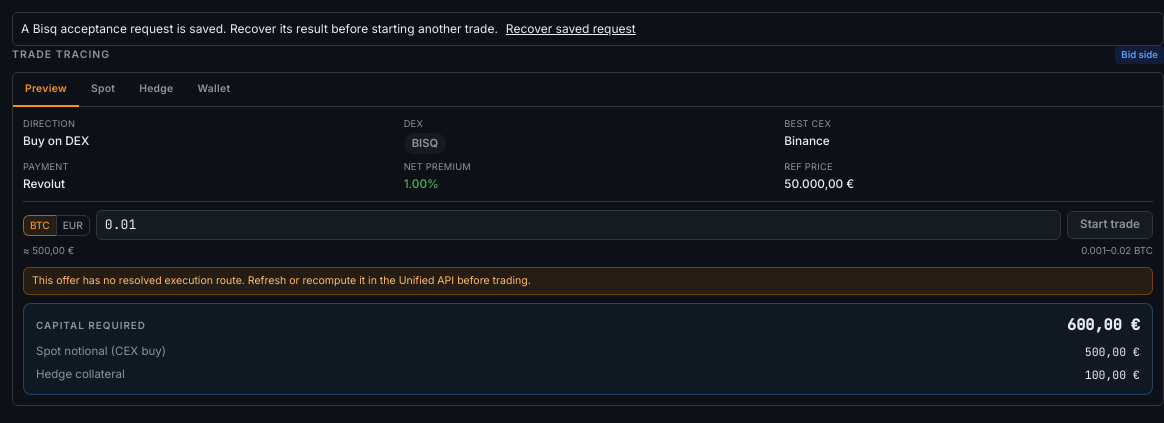
Test: TradeTracingPanel trade errors › discards a saved Bisq acceptance when the backend reports the quote expired
The image size is (1164, 423).
Click the button "Recover saved request": (571, 29) [506, 21, 636, 37]
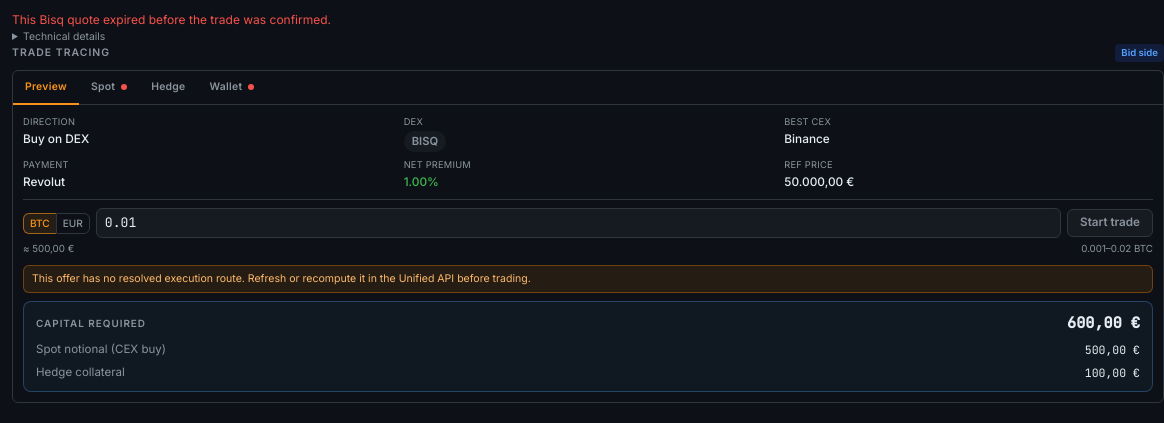
Expected: the text "This Bisq quote expired before the trade was confirmed." is shown, [12, 12, 331, 27]
